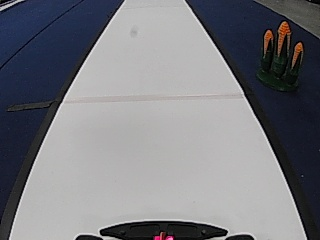corn: (256, 19, 303, 89)
